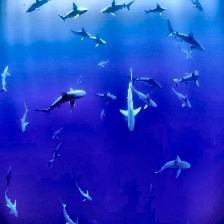shark: (58, 2, 88, 22)
